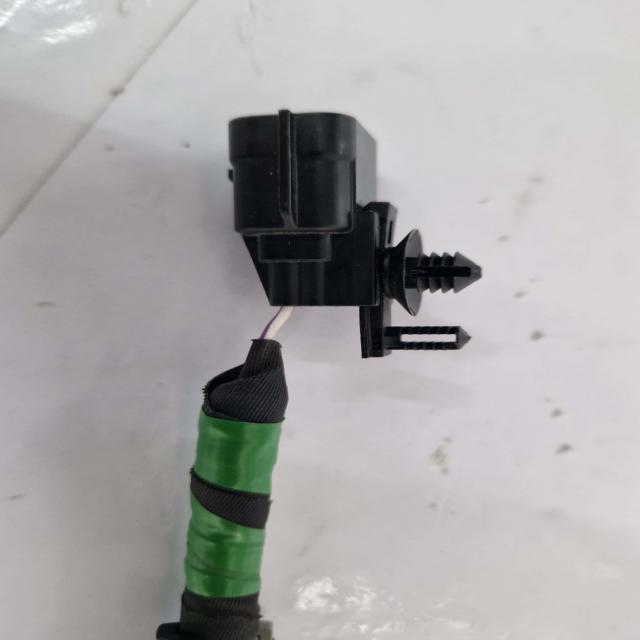AJ20_D6_Cable: (158, 339, 289, 640)
Clip: (360, 230, 482, 358)
Connector: (229, 110, 386, 311)
Gape: (260, 306, 295, 340)
